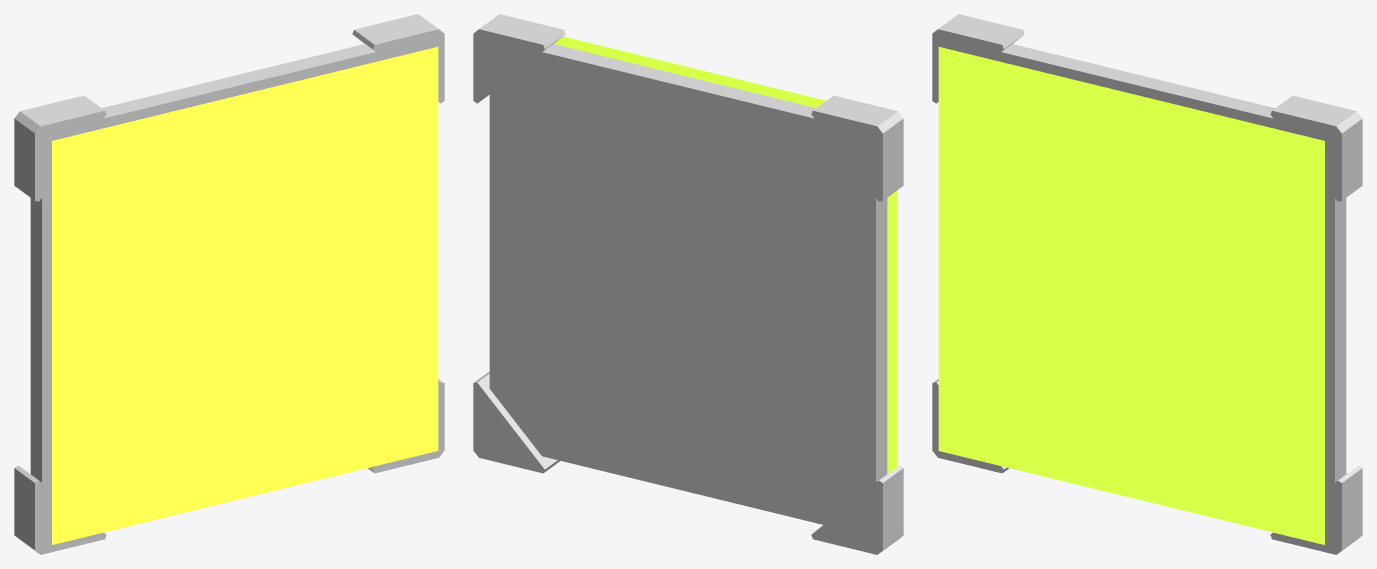
Rendered from noodle_display.glb.
3 views of the same model, side by side, from view 1: azimuth 30°, elevation 25°; view 2: azimuth 150°, elevation 25°; view 3: azimuth 330°, elevation 25° (orthographic).
Parts seen in each view (by area): view 1: FrontEmission, Corner, Base; view 2: Base, Corner, FrontEmission; view 3: FrontEmission, Corner, Base.
Boxes of the visible parts, left/top/right/bottom form: FrontEmission: left=52, top=47, right=438, bottom=544; Corner: left=14, top=14, right=444, bottom=554; Base: left=30, top=44, right=384, bottom=490; Base: left=489, top=44, right=887, bottom=524; Corner: left=473, top=14, right=903, bottom=554; FrontEmission: left=554, top=36, right=897, bottom=473; FrontEmission: left=938, top=47, right=1324, bottom=544; Corner: left=932, top=14, right=1362, bottom=554; Base: left=992, top=44, right=1346, bottom=490.
Size of the model in its own units: 2.12 by 2.12 by 0.2333.
